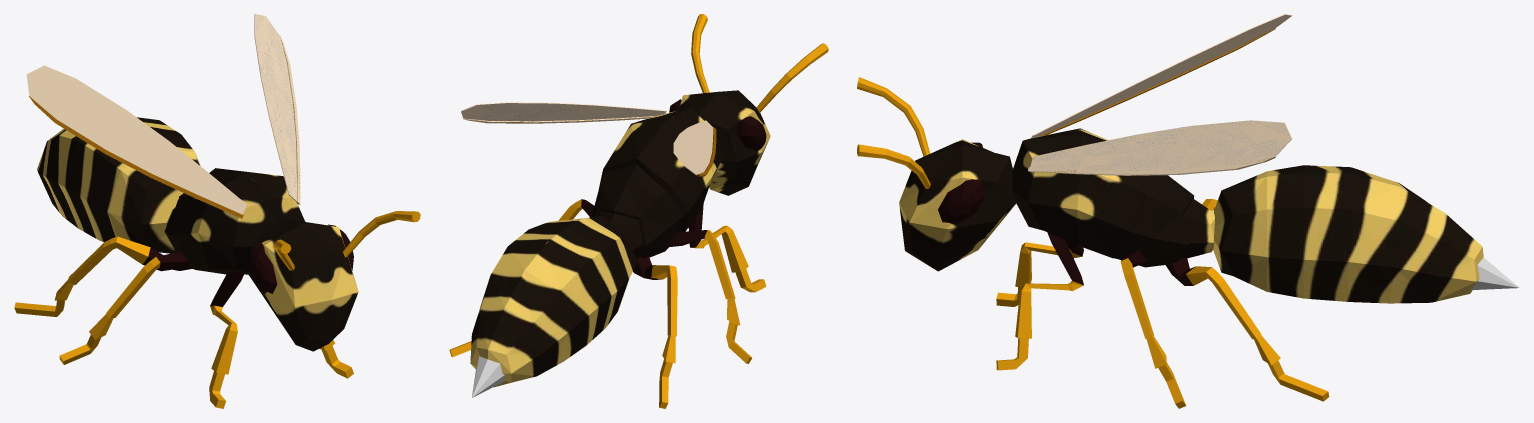
Rendered from e-maR6CzcKc.glb.
The picture shows the model from 3 angles, left to right: view 1: azimuth 30°, elevation 25°; view 2: azimuth 150°, elevation 25°; view 3: azimuth 270°, elevation 25°; orthographic projection. The views are drawn at different scales.
Parts seen in each view (by area): view 1: Node; view 2: Node; view 3: Node.
Boxes of the visible parts, box(x1,y1,x2,y2) form: Node: box(14, 14, 420, 408); Node: box(449, 14, 828, 408); Node: box(857, 14, 1519, 408).
Bounding box in the file's own units: 1.12 × 0.9999 × 2.19.
7 materials, 1 textured.
